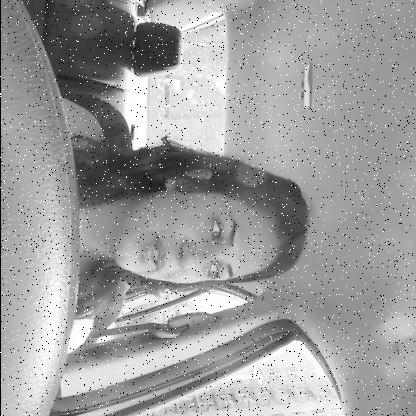no_seatbelt: (52, 144, 314, 340)
